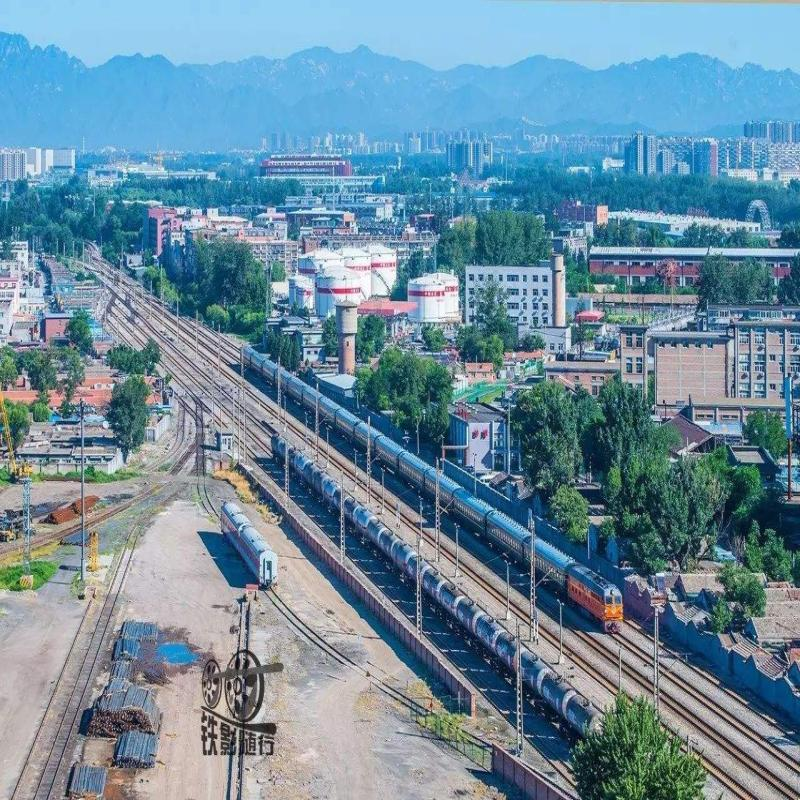train: (232, 335, 631, 720)
